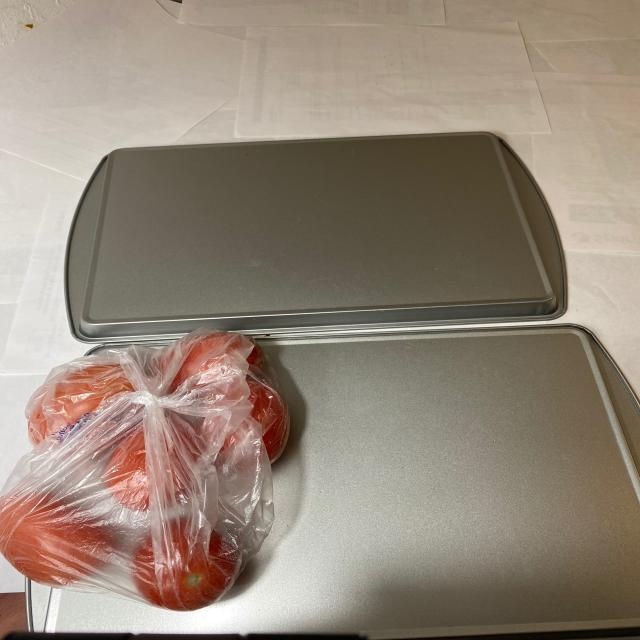tomato: (0, 327, 272, 610)
